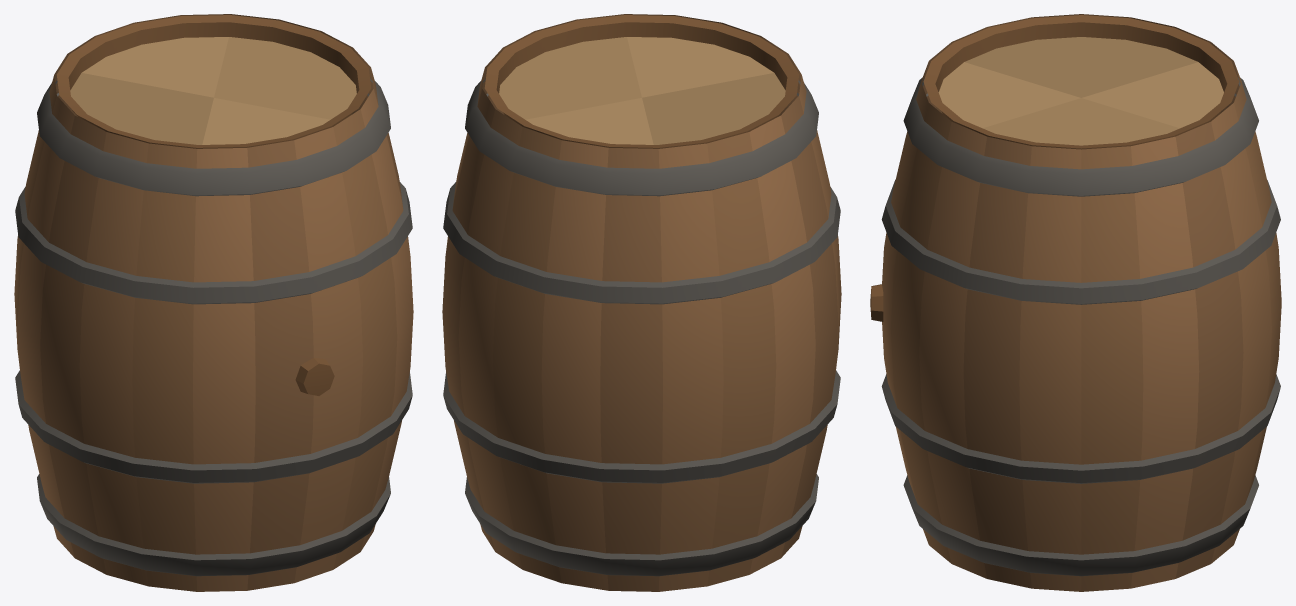
The model's file is market-barrel.glb.
The picture shows the model from 3 angles, left to right: view 1: azimuth 30°, elevation 25°; view 2: azimuth 150°, elevation 25°; view 3: azimuth 270°, elevation 25°; orthographic projection.
Visible parts, largest first — view 1: market-barrel; view 2: market-barrel; view 3: market-barrel.
Part boxes in pixels (bbox=[...]): market-barrel: bbox=[14, 14, 413, 591]; market-barrel: bbox=[442, 14, 841, 591]; market-barrel: bbox=[870, 14, 1281, 591].
Size of the model in its own units: 9.57 by 11.66 by 9.83.
